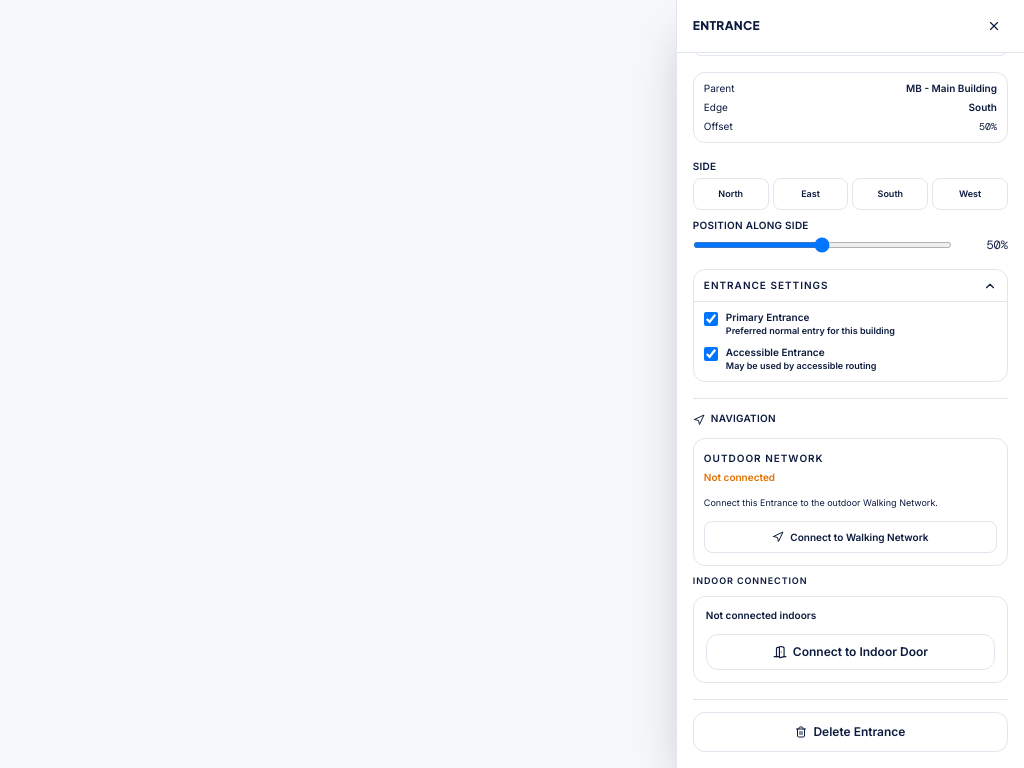
Test: B5 Phase 4.1 - entrance linking PropertiesPanel UI › renders wrong-floor doors as ineligible and explains when no eligible entry-floor door exists
The image size is (1024, 768).
(page scrolled)
Click the button "Connect to Indoor Door". click: (850,652)
box: [706,634,995,670]
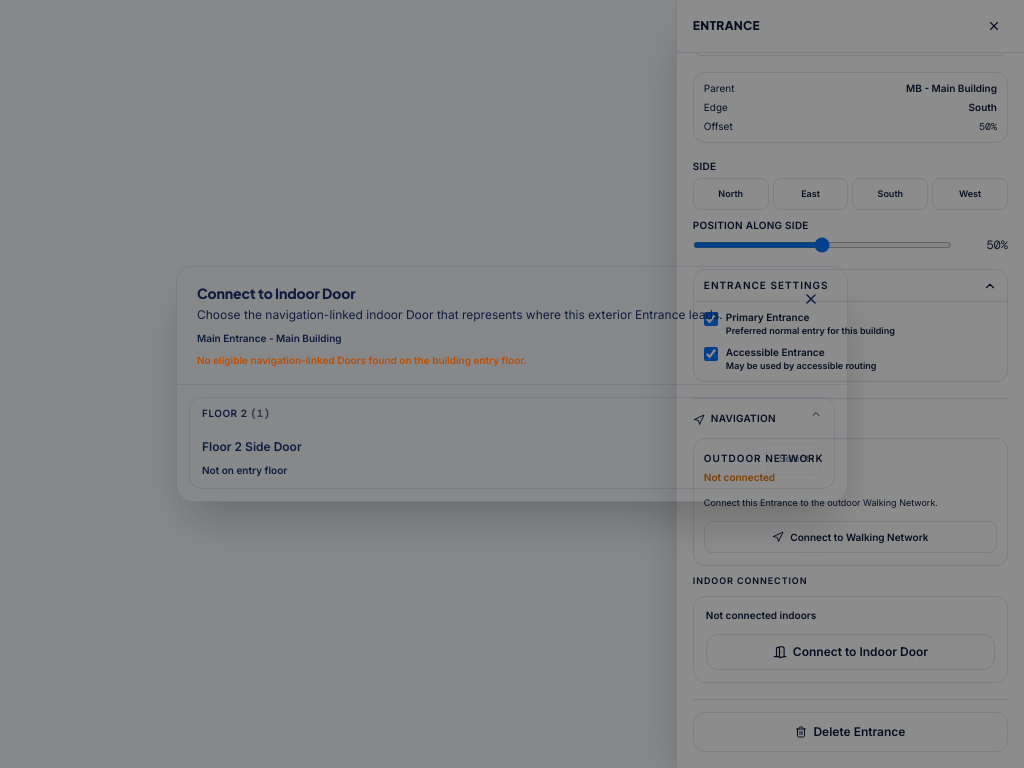
Expected: the text "No eligible navigation-linked Doors found on the building entry floor." is shown, [197,354,527,366]
Expected: the text "Floor 2 Side Door" is shown, [202,439,302,455]
Expected: the button "Select" is disabled, [766,443,822,475]
